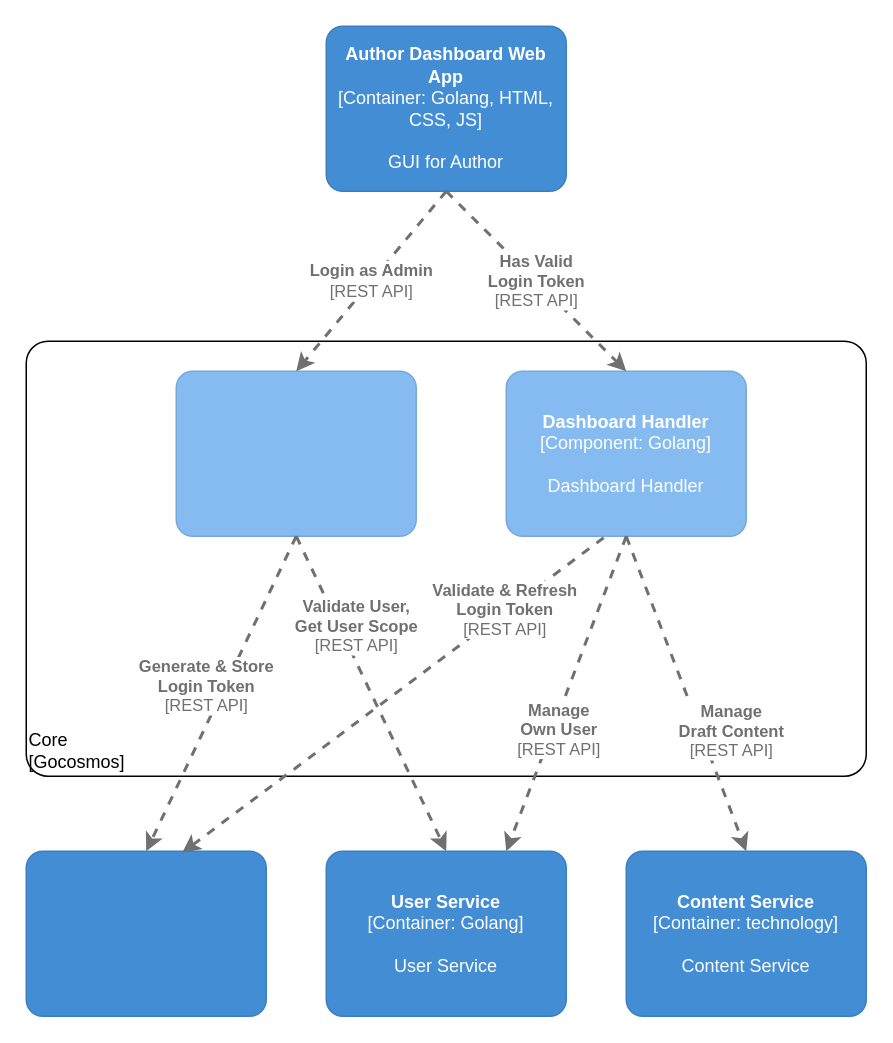
Some shapes in this 893 by 1043 pixel diagram are drawn without their labels. The shapes that lost their labels are listed below. From the top down, each one's centre as x and y in pixels, then its label:
At (295,453): "Login Handler [Component: Golang] Login Handler for all kind of User".
At (145,933): "Token Service [Container: Golang] Token Service".
